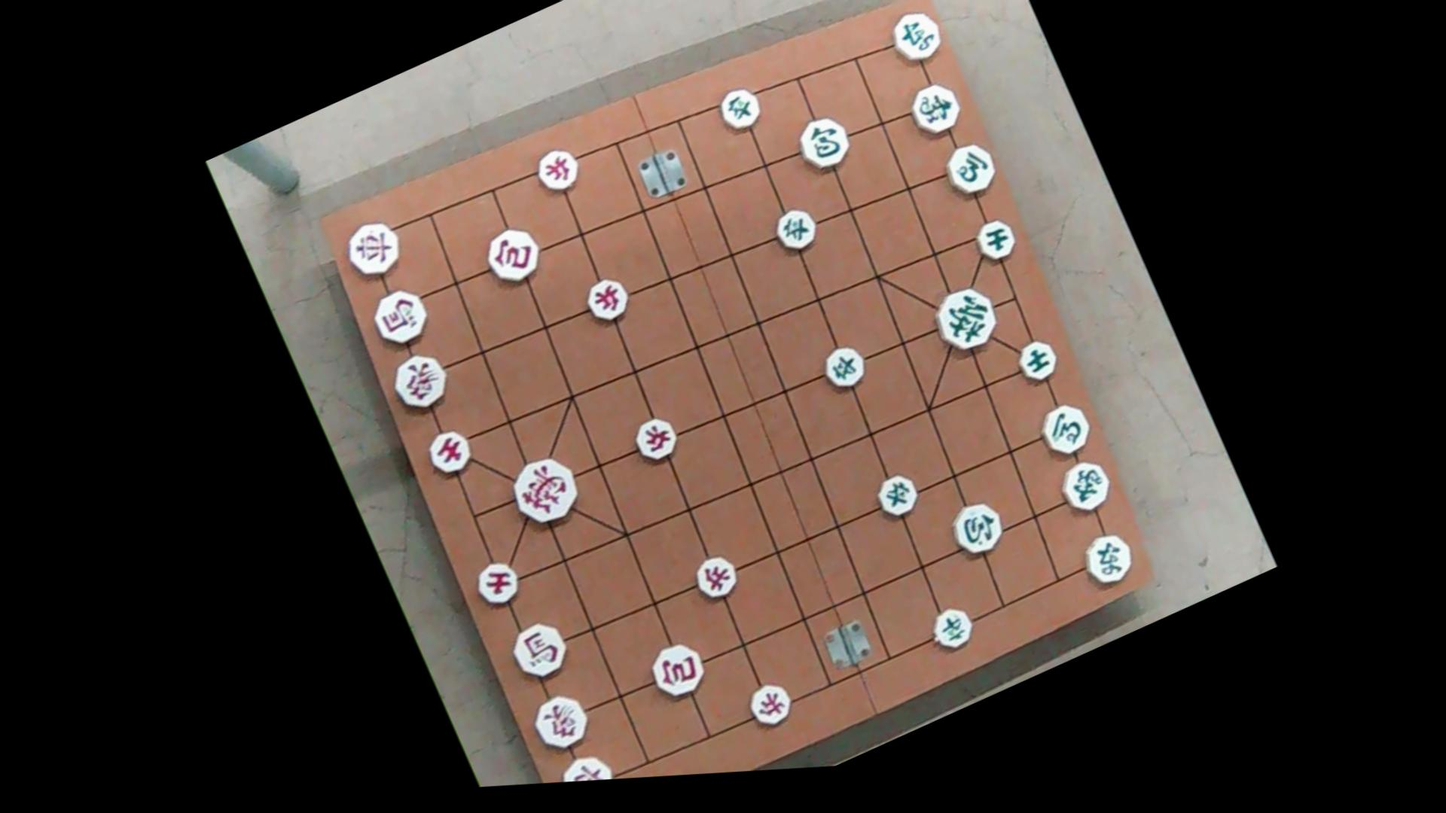cha_green: (886, 1, 950, 67), (1078, 526, 1140, 589)
cha_red: (339, 218, 407, 289), (552, 747, 619, 782)
jol_green: (820, 340, 871, 396), (770, 199, 821, 255), (713, 81, 764, 137), (926, 601, 978, 655), (871, 468, 920, 523)
jol_red: (689, 546, 741, 605), (582, 269, 634, 326), (534, 141, 586, 198), (631, 411, 682, 467), (744, 678, 795, 732)
ma_green: (938, 135, 1000, 202), (1036, 398, 1094, 463)
ma_red: (505, 615, 572, 688), (365, 283, 432, 355)
po_green: (947, 495, 1008, 562), (795, 111, 856, 178)
po_red: (477, 220, 542, 291), (645, 637, 709, 706)
sa_green: (1012, 332, 1061, 387), (972, 215, 1020, 269)
sa_red: (470, 550, 526, 611), (421, 422, 474, 479)
sang_green: (907, 74, 967, 141), (1056, 455, 1118, 519)
sang_red: (523, 689, 596, 759), (386, 348, 452, 419)
wang_green: (929, 276, 1003, 358)
wang_red: (503, 446, 584, 534)
